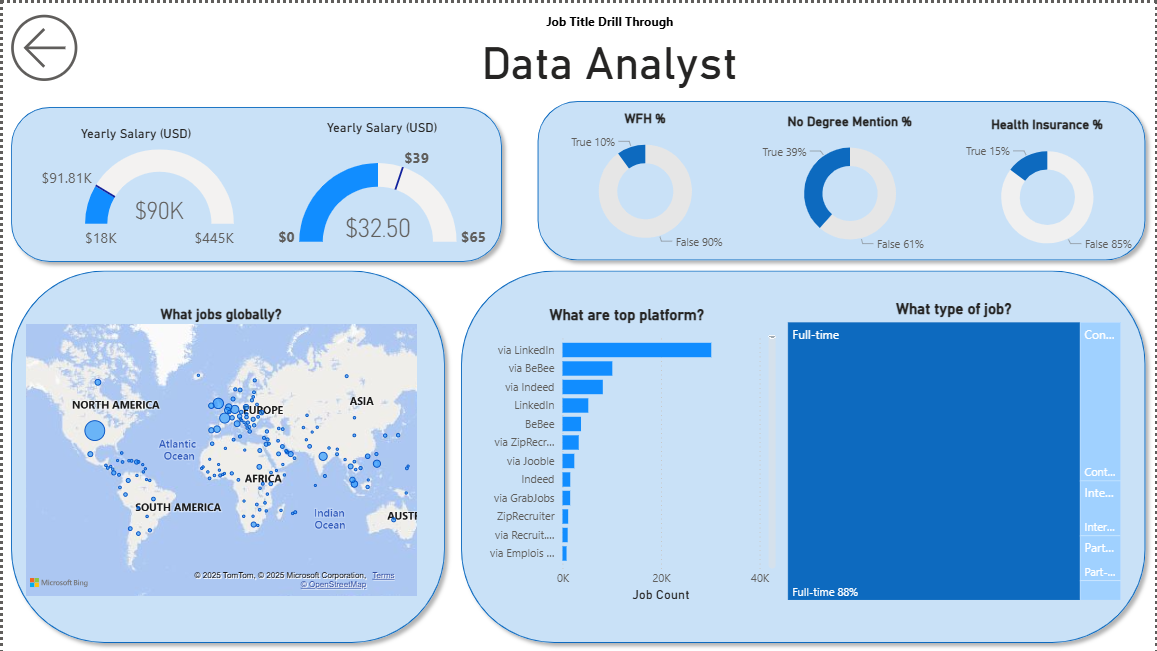

The page's visual inventory and layout, read from the dashboard file:
{"tool":"powerbi","page":{"name":"Job Drill Through","canvas":[1280,720],"ordinal":1},"visuals":[{"type":"group","id":"g1","title":"Background fill","box":[0,99.9,1278.3,620.7],"z":0},{"type":"shape","box":[585,99.9,693.3,195],"z":0,"group":"g1"},{"type":"gauge","title":"Yearly Salary (USD)","fields":{"Y":["Median(job_postings_flat.salary_year_avg)"],"MinValue":["Min(job_postings_flat.salary_year_avg)"],"MaxValue":["Max(job_postings_flat.salary_year_avg)"],"TargetValue":["Avg(job_postings_flat.salary_year_avg)1"]},"box":[20,136.7,255,145],"z":1000},{"type":"shape","box":[0,288.9,500,431.7],"z":1000,"group":"g1"},{"type":"shape","box":[0,107.2,563.3,190],"z":1500,"group":"g1"},{"type":"gauge","title":"Yearly Salary (USD)","fields":{"Y":["Median(job_postings_flat.salary_hour_avg)"],"TargetValue":["Avg(job_postings_flat.salary_hour_avg)1"]},"box":[293.3,130,255,145],"z":2000},{"type":"shape","box":[500,288.9,778.3,431.7],"z":2000,"group":"g1"},{"type":"donutChart","title":"WFH %","fields":{"Category":["job_postings_flat.job_work_from_home"],"Y":["CountNonNull(job_postings_flat.job_title_short)"]},"box":[585,120,256.7,161.7],"z":3000},{"type":"donutChart","title":"No Degree Mention %","fields":{"Y":["CountNonNull(job_postings_flat.job_title_short)"],"Category":["job_postings_flat.job_no_degree_mention"]},"box":[816.7,123.3,248.3,160],"z":4000},{"type":"donutChart","title":"Health Insurance %","fields":{"Y":["CountNonNull(job_postings_flat.job_title_short)"],"Category":["job_postings_flat.job_health_insurance"]},"box":[1041.7,126.7,236.7,161.7],"z":5000},{"type":"map","title":"What jobs globally?","fields":{"Category":["job_postings_flat.job_country"],"Series":["job_postings_flat.job_no_degree_mention"],"Size":["CountNonNull(job_postings_flat.job_title_short)"]},"box":[20,336.7,445,326.7],"z":6000},{"type":"treemap","title":"What type of job?","fields":{"Group":["job_postings_flat.job_schedule_type"],"Details":["job_postings_flat.job_schedule_type"],"Values":["CountNonNull(job_postings_flat.job_title_short)"]},"box":[866.7,330,380,338.3],"z":8000},{"type":"barChart","title":"What are top platform?","fields":{"Category":["job_postings_flat.job_via"],"Y":["CountNonNull(job_postings_flat.job_title_short)"]},"box":[523.3,336.7,340,333.3],"z":9000},{"type":"cardVisual","fields":{"Data":["Min(job_postings_flat.job_title_short)"]},"box":[406.7,0,535,106.7],"z":10000},{"type":"actionButton","box":[0,0,91.7,100],"z":11000}]}

Visuals, with their boxes in screenshot pixels (x1, y1, x2, y2), scaled from the page's 1280x720 canvas onto the 1157x651 screenshot:
"Background fill" group: <bbox>0, 90, 1155, 650</bbox>
shape: <bbox>529, 90, 1155, 267</bbox>
"Yearly Salary (USD)" gauge: <bbox>18, 124, 249, 255</bbox>
shape: <bbox>0, 261, 452, 650</bbox>
shape: <bbox>0, 97, 509, 269</bbox>
"Yearly Salary (USD)" gauge: <bbox>265, 118, 496, 249</bbox>
shape: <bbox>452, 261, 1155, 650</bbox>
"WFH %" donutChart: <bbox>529, 108, 761, 255</bbox>
"No Degree Mention %" donutChart: <bbox>738, 111, 963, 256</bbox>
"Health Insurance %" donutChart: <bbox>942, 115, 1156, 261</bbox>
"What jobs globally?" map: <bbox>18, 304, 420, 600</bbox>
"What type of job?" treemap: <bbox>783, 298, 1127, 604</bbox>
"What are top platform?" barChart: <bbox>473, 304, 780, 606</bbox>
cardVisual - Min(job_postings_flat.job_title_short): <bbox>368, 0, 851, 96</bbox>
actionButton: <bbox>0, 0, 83, 90</bbox>
